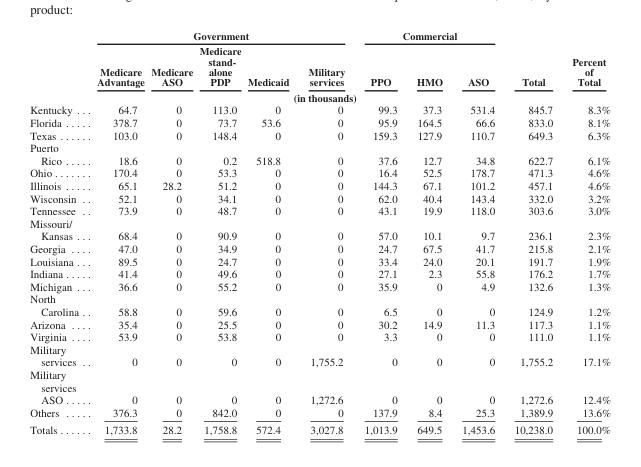table: (29, 29, 610, 435)
table column: (87, 29, 147, 435), (29, 29, 87, 435), (503, 29, 561, 435), (298, 29, 354, 435), (243, 29, 298, 435), (354, 29, 406, 435), (451, 29, 503, 435), (561, 29, 610, 435), (147, 29, 195, 435), (195, 29, 243, 435), (406, 29, 451, 435)
table column header: (29, 29, 610, 103)
table row: (29, 42, 610, 89), (29, 367, 610, 405), (29, 141, 610, 166), (29, 216, 610, 241), (29, 292, 610, 317), (29, 342, 610, 367), (29, 405, 610, 420), (29, 420, 610, 435), (29, 89, 610, 103), (29, 29, 610, 42), (29, 115, 610, 128), (29, 128, 610, 141), (29, 178, 610, 191), (29, 191, 610, 204), (29, 241, 610, 254), (29, 254, 610, 267), (29, 279, 610, 292), (29, 317, 610, 330), (29, 103, 610, 115), (29, 166, 610, 178), (29, 204, 610, 216), (29, 267, 610, 279), (29, 330, 610, 342)
table spanning cell: (87, 89, 561, 103), (561, 29, 610, 103), (503, 29, 561, 89), (87, 29, 354, 42), (354, 29, 503, 42)
